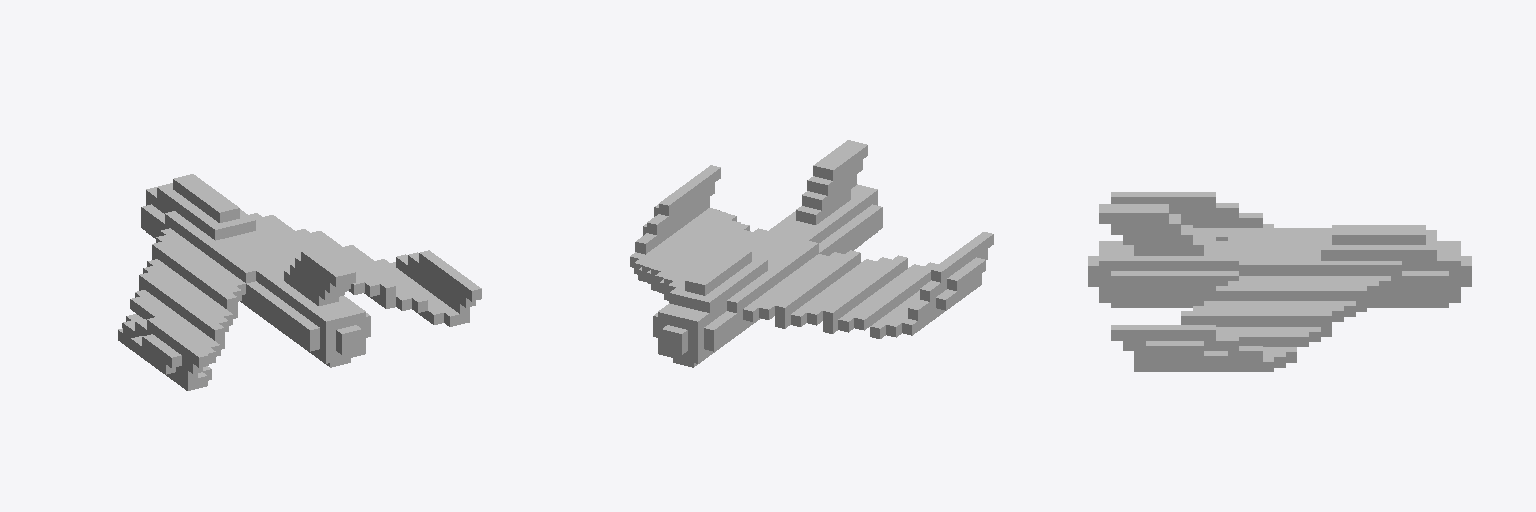
The model's file is bluePlane.obj.
The picture shows the model from 3 angles: view 1: azimuth 30°, elevation 25°; view 2: azimuth 150°, elevation 25°; view 3: azimuth 270°, elevation 25°; orthographic projection.
Bounding box in the file's own units: 30 × 9 × 33.